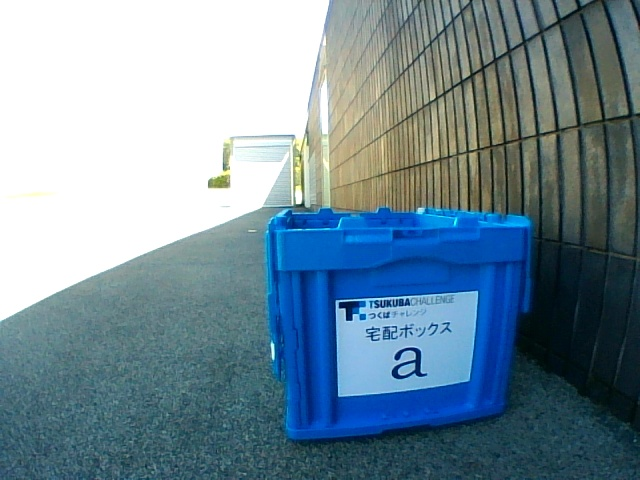blue_box: (266, 206, 531, 441)
tag_a: (349, 310, 453, 383)
